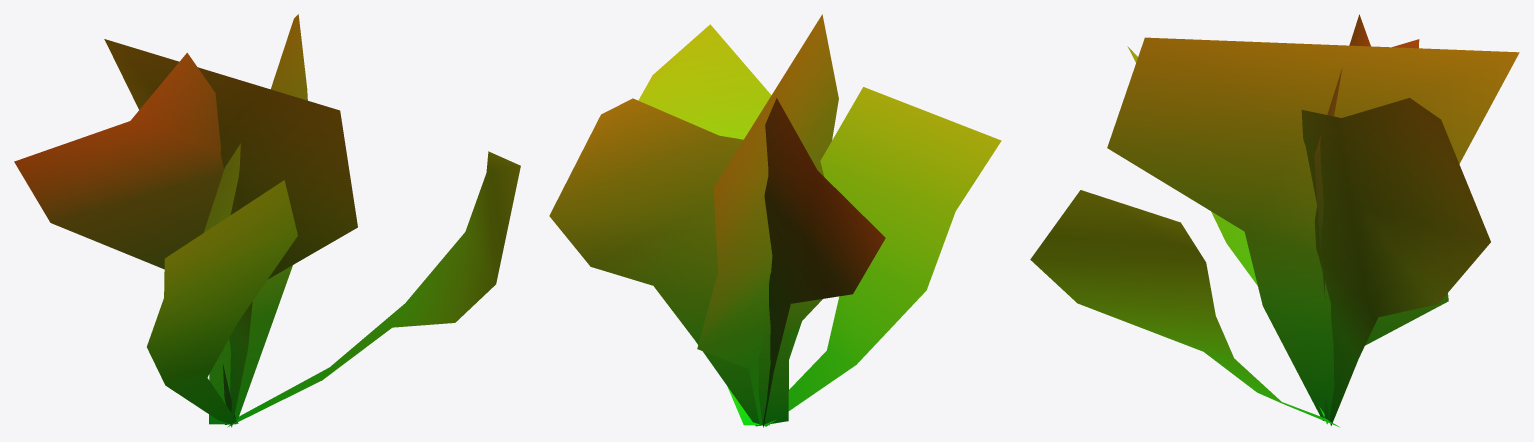
Rendered from Ocean Seaweed_LOD0_Var2_sdDkn.fbx.
The picture shows the model from 3 angles, left to right: view 1: azimuth 30°, elevation 25°; view 2: azimuth 150°, elevation 25°; view 3: azimuth 270°, elevation 25°; orthographic projection. The views are drawn at different scales.
Parts seen in each view (by area): view 1: _c5fb_Var2_LOD0; view 2: _c5fb_Var2_LOD0; view 3: _c5fb_Var2_LOD0.
Part boxes in pixels (x1,y1,x2,y2): _c5fb_Var2_LOD0: (14,14,520,427); _c5fb_Var2_LOD0: (549,14,1001,427); _c5fb_Var2_LOD0: (1030,14,1519,427).
Size of the model in its own units: 32.69 by 31.39 by 35.05.
